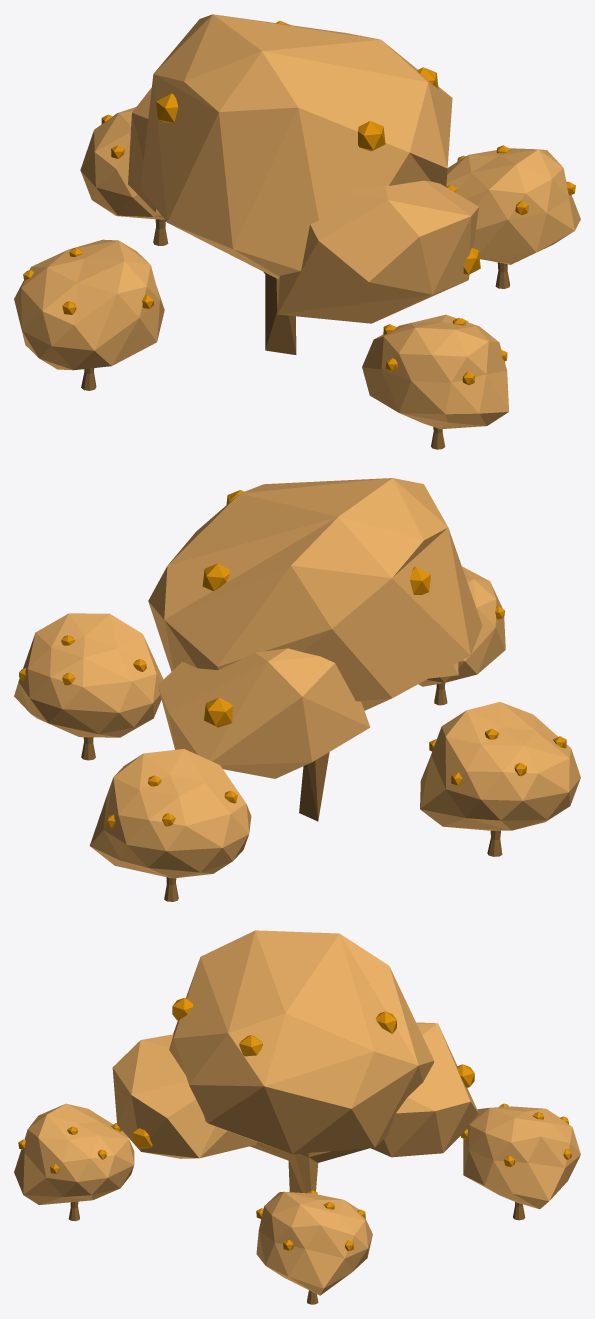
The model's file is groves.fbx.
3 renders of one model, top to bottom at view 1: azimuth 30°, elevation 25°; view 2: azimuth 150°, elevation 25°; view 3: azimuth 270°, elevation 25°, orthographic. The views are drawn at different scales.
Parts seen in each view (by area): view 1: bigGrove, Grove, Grove3, Grove2, Grove1; view 2: bigGrove, Grove, Grove1, Grove2, Grove3; view 3: bigGrove, Grove1, Grove3, Grove2.
Part boxes in pixels (x1=…): bigGrove: x1=128, y1=14, x2=480, y2=354; Grove: x1=14, y1=239, x2=164, y2=390; Grove3: x1=362, y1=314, x2=508, y2=449; Grove2: x1=446, y1=145, x2=580, y2=288; Grove1: x1=80, y1=107, x2=168, y2=245; bigGrove: x1=148, y1=478, x2=482, y2=821; Grove: x1=420, y1=702, x2=580, y2=856; Grove1: x1=89, y1=749, x2=251, y2=901; Grove2: x1=14, y1=613, x2=163, y2=760; Grove3: x1=418, y1=566, x2=505, y2=705; bigGrove: x1=112, y1=930, x2=478, y2=1193; Grove1: x1=461, y1=1103, x2=580, y2=1220; Grove3: x1=14, y1=1103, x2=134, y2=1221; Grove2: x1=256, y1=1190, x2=372, y2=1304.
Bounding box in the file's own units: 0.0773 × 0.0446 × 0.0849.
